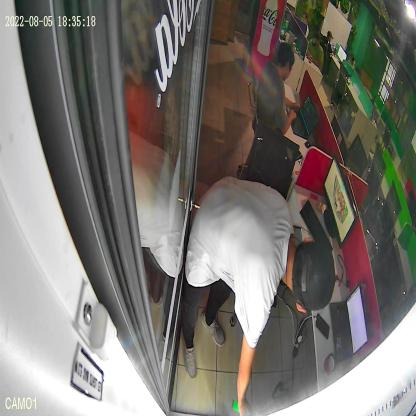green: (232, 398, 242, 416)
